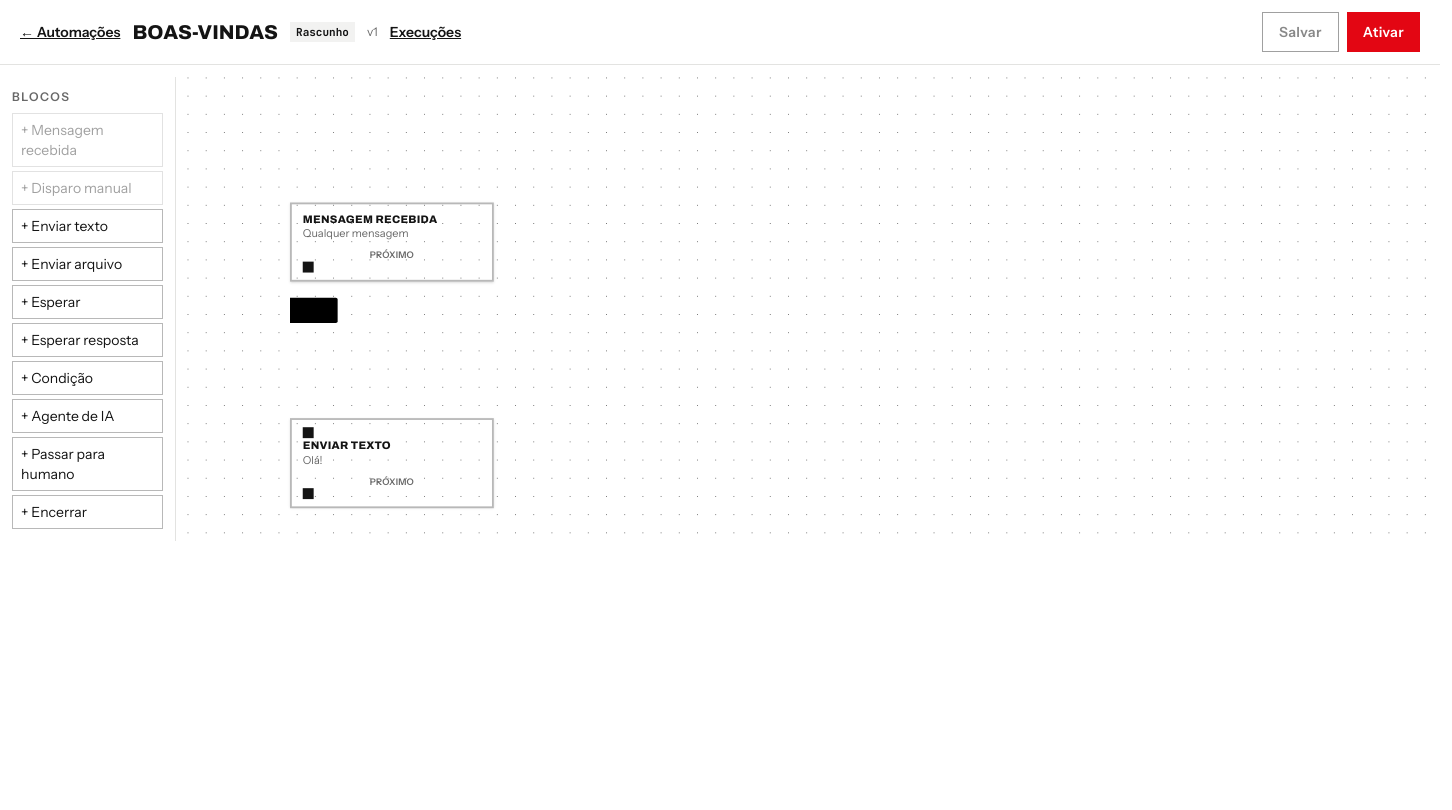
Test: FlowEditor › shows the API error when activation fails for another reason
What coordinates should you click on to do the following:
click the button "Ativar"
I would click on:
 (1383, 32)
Its box is x1=1347 y1=12 x2=1420 y2=52.
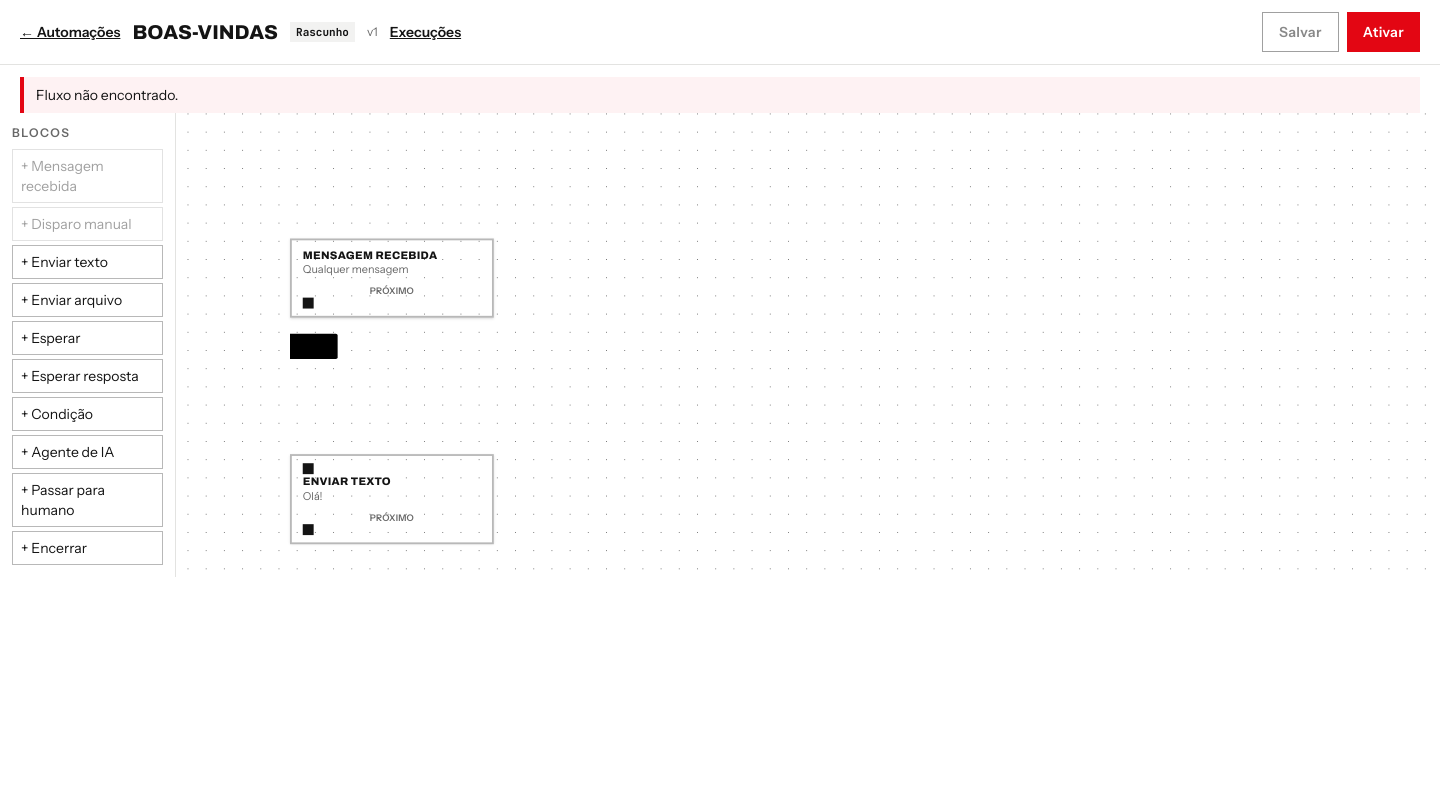
Expected: the message reads "Fluxo não encontrado.", x1=36 y1=86 x2=178 y2=104
